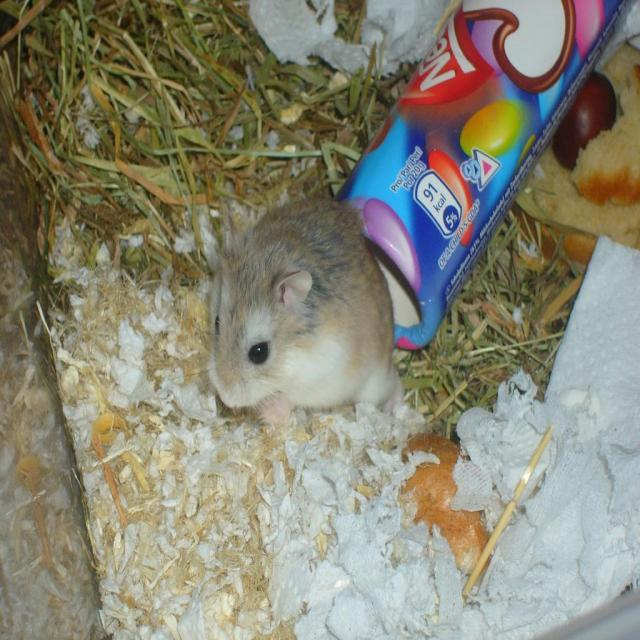rat: (201, 191, 403, 431)
